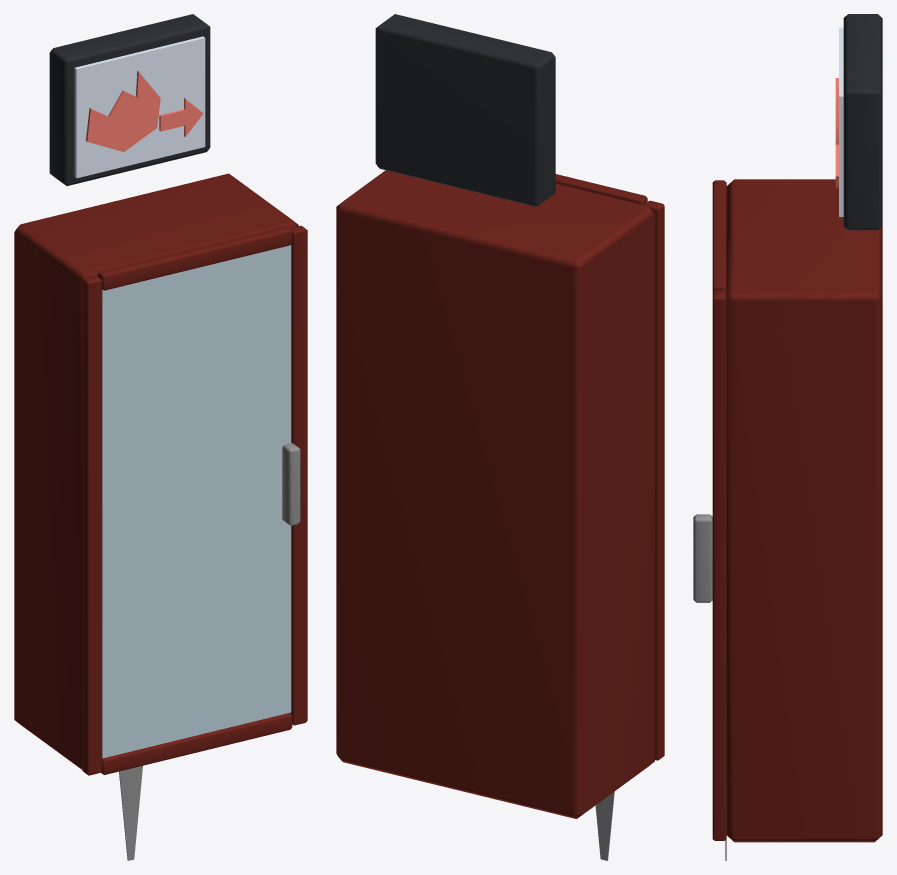
Rendered from Fire_Extinguisher_Cabinet.fbx.
The picture shows the model from 3 angles, left to right: view 1: azimuth 30°, elevation 25°; view 2: azimuth 150°, elevation 25°; view 3: azimuth 270°, elevation 25°; orthographic projection. The views are drawn at different scales.
Parts seen in each view (by area): view 1: Fire_Extinguisher_Cabinet_LOD0; view 2: Fire_Extinguisher_Cabinet_LOD0; view 3: Fire_Extinguisher_Cabinet_LOD0.
Part boxes in pixels (bbox=[...]): Fire_Extinguisher_Cabinet_LOD0: bbox=[14, 14, 307, 860]; Fire_Extinguisher_Cabinet_LOD0: bbox=[336, 14, 664, 860]; Fire_Extinguisher_Cabinet_LOD0: bbox=[693, 14, 882, 860].
Size of what is drawn, in the model's own units: 0.36 by 1.19 by 0.2425.
